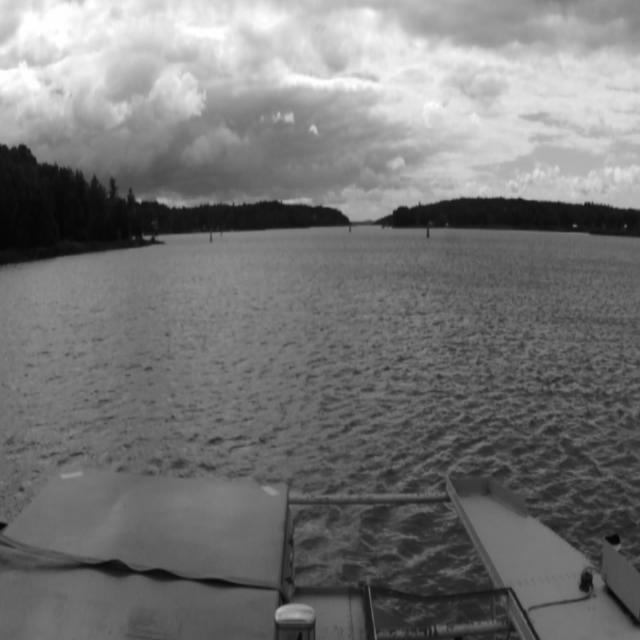buoy: (348, 216, 352, 229), (218, 226, 222, 238), (426, 220, 428, 238), (210, 228, 212, 242), (427, 225, 429, 237)
